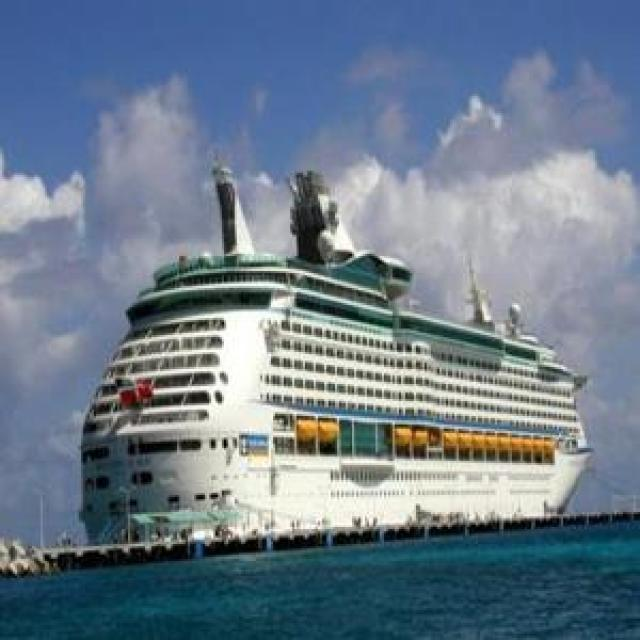passenger ship: (75, 150, 602, 540)
